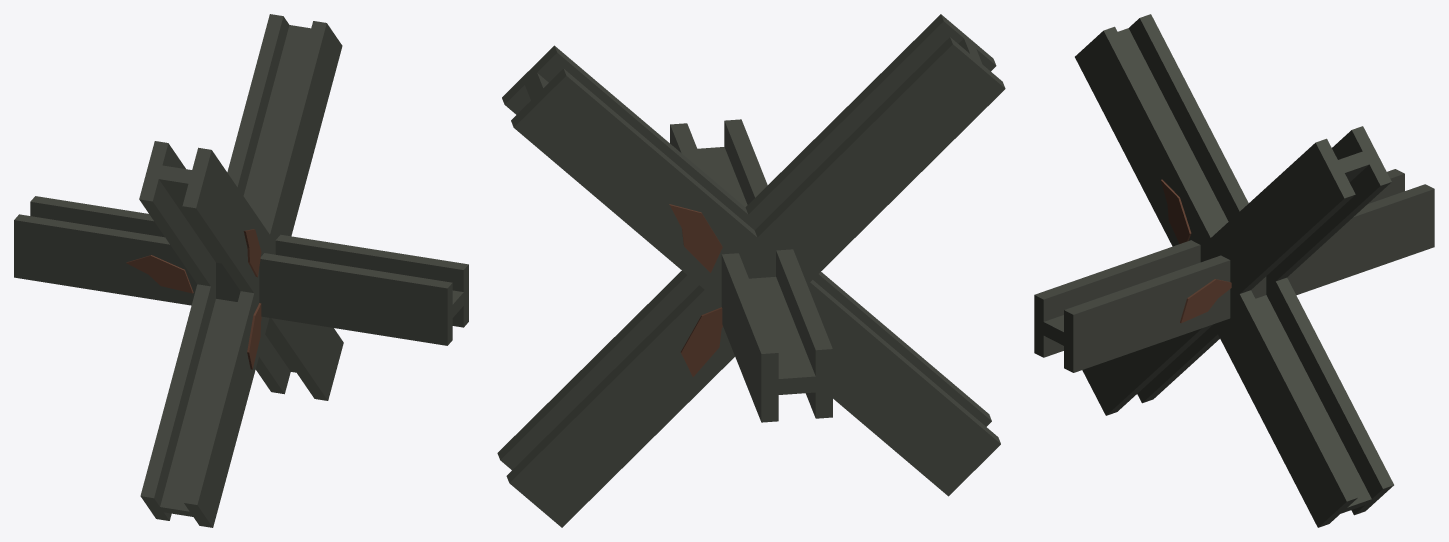
The model's file is tank_trap_b.obj.
The picture shows the model from 3 angles, left to right: view 1: azimuth 30°, elevation 25°; view 2: azimuth 150°, elevation 25°; view 3: azimuth 270°, elevation 25°; orthographic projection. The views are drawn at different scales.
Parts seen in each view (by area): view 1: tank_trap_b; view 2: tank_trap_b; view 3: tank_trap_b.
Part boxes in pixels (bbox=[...]): tank_trap_b: bbox=[14, 14, 468, 527]; tank_trap_b: bbox=[497, 14, 1005, 527]; tank_trap_b: bbox=[1034, 14, 1434, 527].
Bounding box in the file's own units: 1.38 × 1.6 × 1.5.
